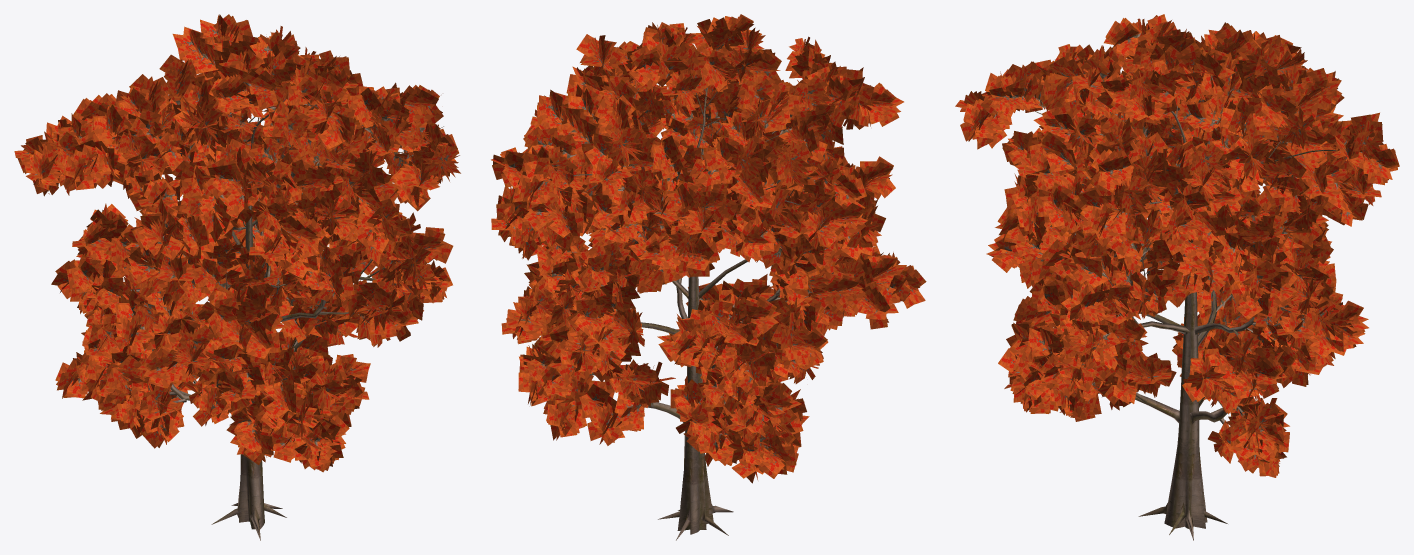
The model's file is maple-fall.gltf.
The picture shows the model from 3 angles, left to right: view 1: azimuth 30°, elevation 25°; view 2: azimuth 150°, elevation 25°; view 3: azimuth 270°, elevation 25°; orthographic projection. The views are drawn at different scales.
Parts seen in each view (by area): view 1: Sugar maple Fall; view 2: Sugar maple Fall; view 3: Sugar maple Fall.
Boxes of the visible parts, box(x1,y1,x2,y2) form: Sugar maple Fall: box(14, 14, 460, 540); Sugar maple Fall: box(491, 14, 926, 540); Sugar maple Fall: box(955, 14, 1399, 540).
Bounding box in the file's own units: 756 × 953 × 780.
Materials: 2 (2 with a texture image).
